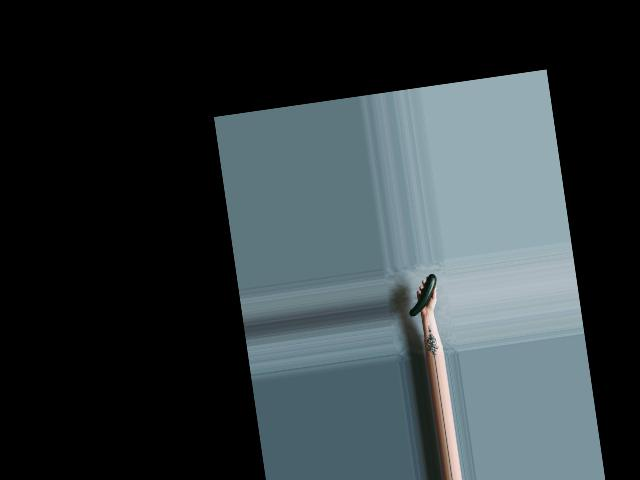cucumber: (403, 273, 440, 316)
